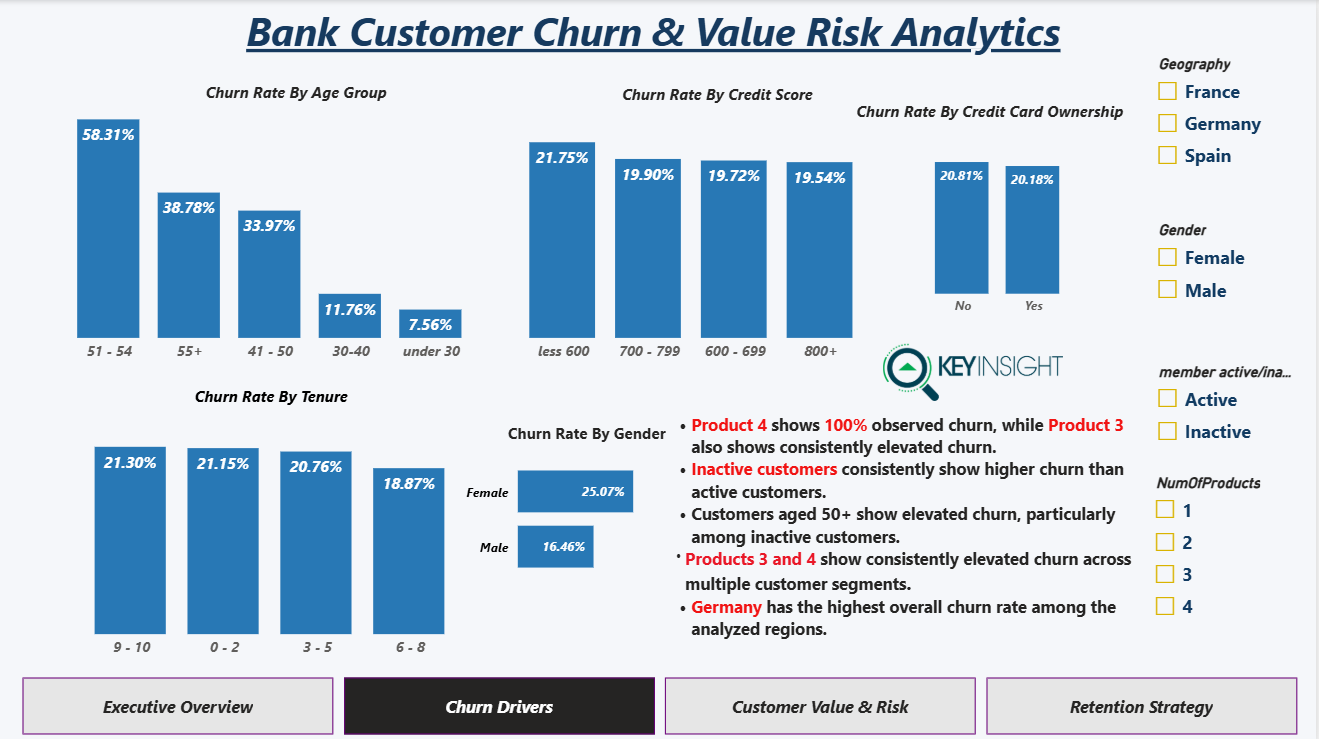

The dashboard page shown, as its layout file describes it:
{"tool":"powerbi","page":{"name":"Churn Drivers","canvas":[1280,720],"ordinal":1},"visuals":[{"type":"textbox","box":[233.8,0,812.4,61.7],"z":0},{"type":"slicer","fields":{"Values":["Bank_Churn.Geography"]},"box":[1114.1,48.3,162.3,160],"z":0,"group":"g1"},{"type":"columnChart","fields":{"Y":["Table.Churn Rate"],"Category":["Bank_Churn.Age Group"]},"box":[48.3,95.3,445.2,263],"z":1000},{"type":"slicer","fields":{"Values":["Bank_Churn.Gender"]},"box":[1114.1,208.3,162.3,128.6],"z":1000,"group":"g1"},{"type":"image","box":[820.4,331.8,257,55.5],"z":2000},{"type":"slicer","fields":{"Values":["Bank_Churn.member active/inactive"]},"box":[1115.3,345.3,162.3,115.1],"z":2000,"group":"g1"},{"type":"columnChart","fields":{"Y":["Table.Churn Rate"],"Category":["Bank_Churn.Credit Card Group"]},"box":[482.6,95.3,390.9,263],"z":3000},{"type":"slicer","fields":{"Values":["Bank_Churn.NumOfProducts"]},"box":[1112.3,452.9,165.3,191.4],"z":3000,"group":"g1"},{"type":"columnChart","fields":{"Y":["Table.Churn Rate"],"Category":["Bank_Churn.Tenure Group"]},"box":[60.3,386.1,422.3,258.2],"z":4000},{"type":"barChart","fields":{"Y":["Table.Churn Rate"],"Category":["Bank_Churn.Gender"]},"box":[453.6,393.3,194.2,209.9],"z":5000},{"type":"columnChart","fields":{"Y":["Table.Churn Rate"],"Category":["Bank_Churn.Credit Card Ownership"]},"box":[845.7,117,255.8,196.6],"z":6000},{"type":"textbox","box":[131.5,73.6,328.2,45.8],"z":7000},{"type":"textbox","box":[555,76,294.4,41],"z":8000},{"type":"group","id":"g1","title":"Group 1","box":[1112.3,48.3,165.3,596],"z":9000},{"type":"textbox","box":[482.6,403,187,36.2],"z":10000},{"type":"textbox","box":[152,366.8,238.9,38.6],"z":11000},{"type":"textbox","box":[831.2,91.7,284.7,45.8],"z":12000},{"type":"textbox","box":[647.9,393.3,464.5,241.3],"z":13000},{"type":"pageNavigator","box":[31.4,653.9,1231.8,55.5],"z":14000}]}

Visuals, with their boxes in screenshot pixels (x1, y1, x2, y2), scaled from the page's 1280x720 canvas onto the 1319x739 screenshot:
textbox: 241, 0, 1078, 63
slicer - Bank_Churn.Geography: 1148, 50, 1315, 214
columnChart - Table.Churn Rate x Bank_Churn.Age Group: 50, 98, 509, 368
slicer - Bank_Churn.Gender: 1148, 214, 1315, 346
image: 845, 341, 1110, 398
slicer - Bank_Churn.member active/inactive: 1149, 354, 1317, 473
columnChart - Table.Churn Rate x Bank_Churn.Credit Card Group: 497, 98, 900, 368
slicer - Bank_Churn.NumOfProducts: 1146, 465, 1317, 661
columnChart - Table.Churn Rate x Bank_Churn.Tenure Group: 62, 396, 497, 661
barChart - Table.Churn Rate x Bank_Churn.Gender: 467, 404, 668, 619
columnChart - Table.Churn Rate x Bank_Churn.Credit Card Ownership: 871, 120, 1135, 322
textbox: 136, 76, 474, 123
textbox: 572, 78, 875, 120
"Group 1" group: 1146, 50, 1317, 661
textbox: 497, 414, 690, 451
textbox: 157, 376, 403, 416
textbox: 857, 94, 1150, 141
textbox: 668, 404, 1146, 651
pageNavigator: 32, 671, 1302, 728
